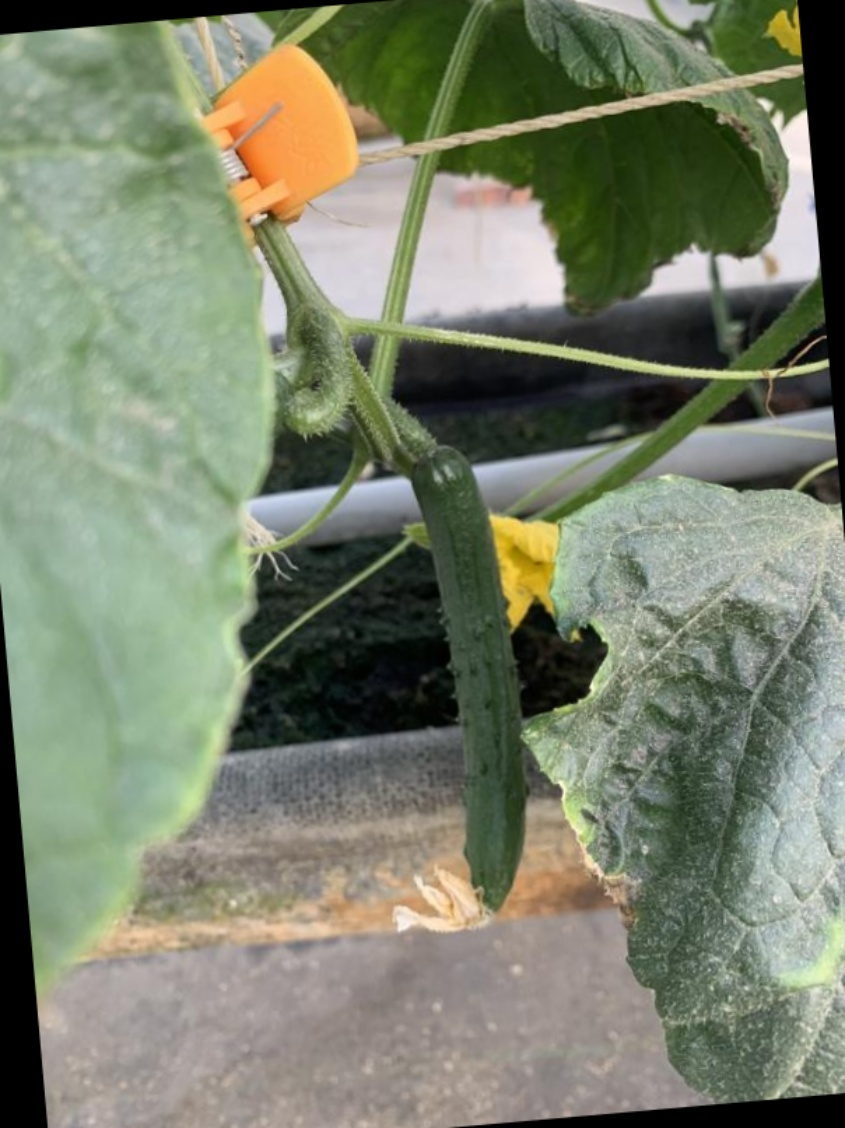mature: (408, 442, 538, 939)
